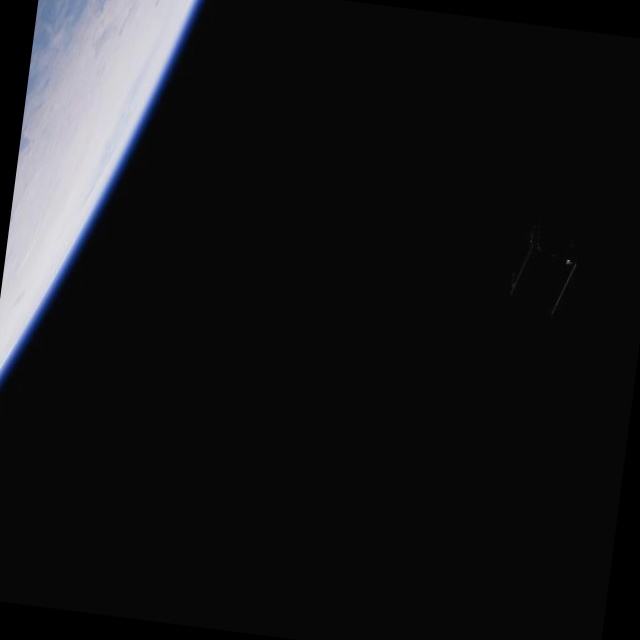satellite: (498, 228, 591, 325)
